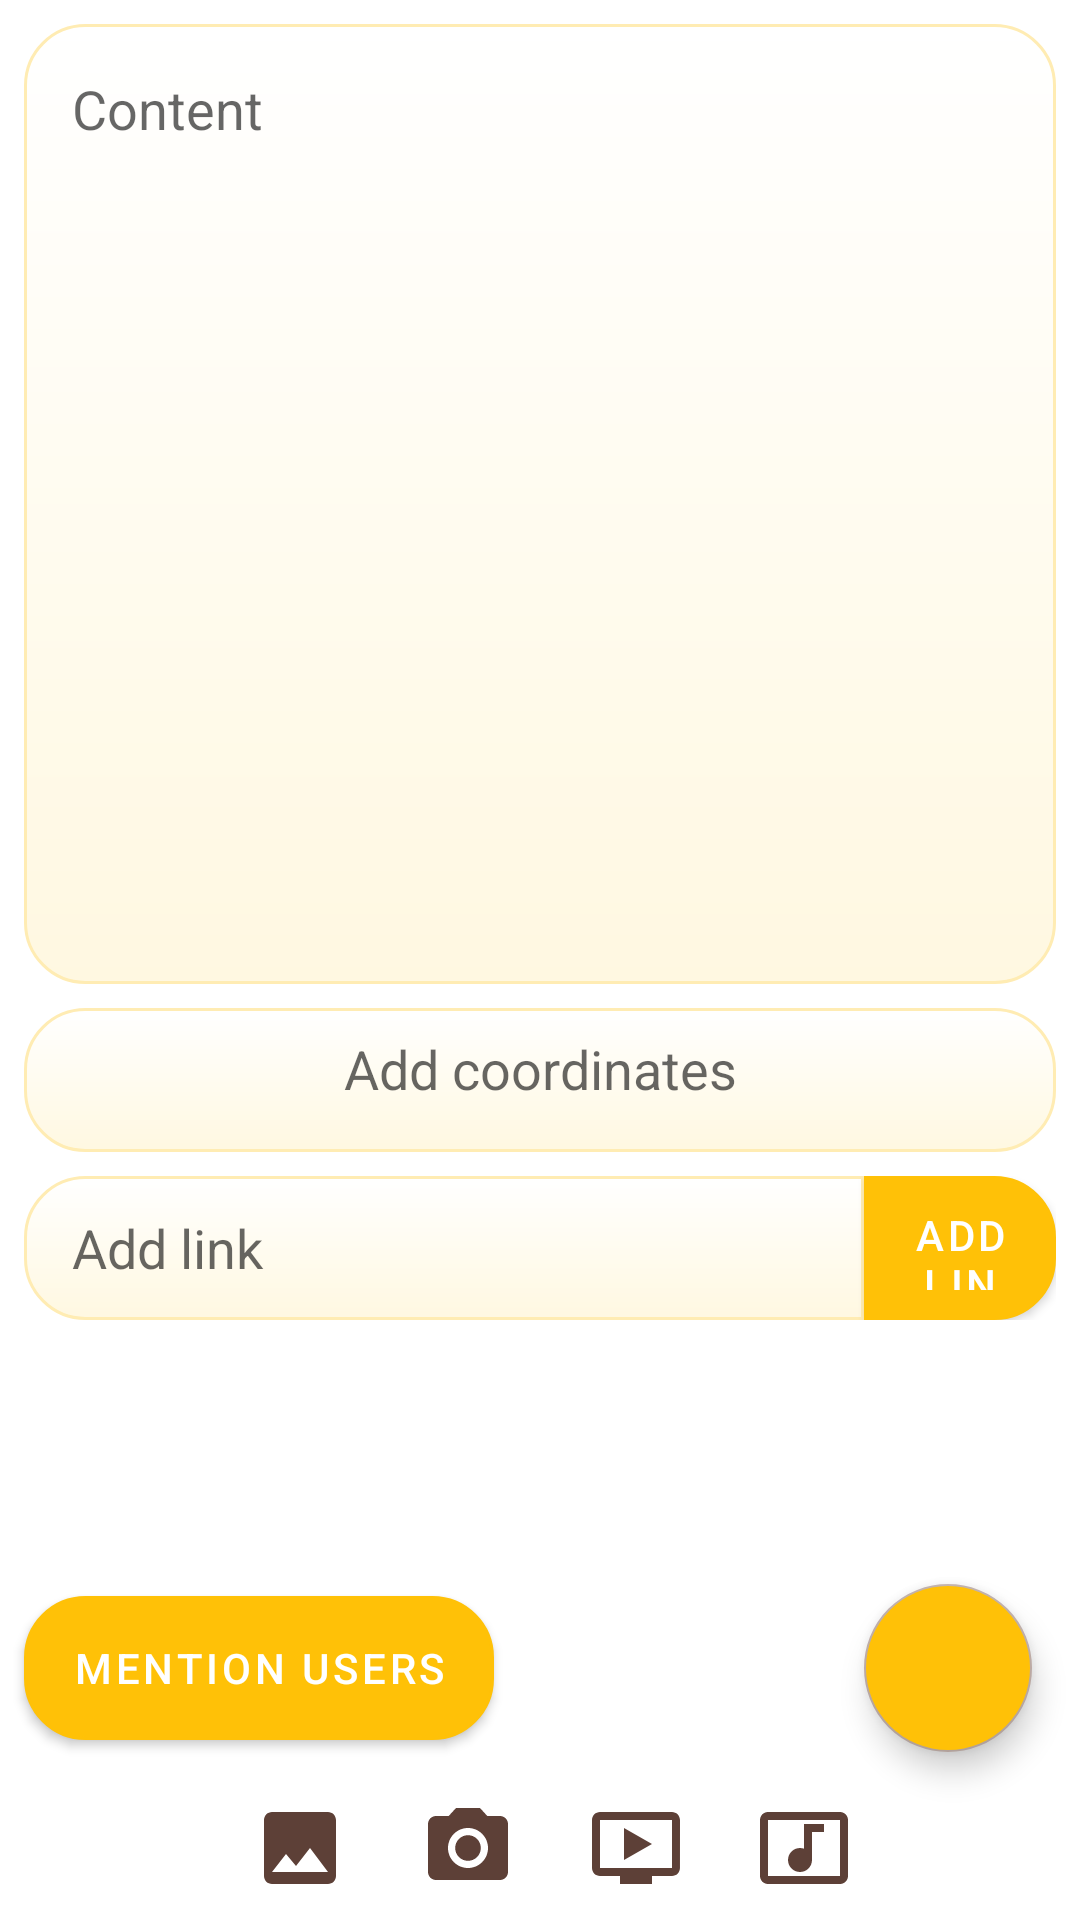

Icons on this 1080×1920 Android screen, each with its box as {"x1": x1, "y1": y1, "x2": x2, "y2": y2}:
Pick audio: {"x1": 760, "y1": 1812, "x2": 848, "y2": 1884}
Pick photo: {"x1": 264, "y1": 1812, "x2": 336, "y2": 1884}
Take photo: {"x1": 428, "y1": 1808, "x2": 508, "y2": 1880}
